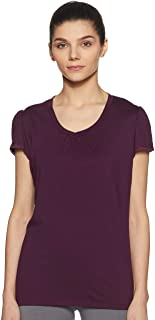tshirt: (10, 93, 155, 314)
